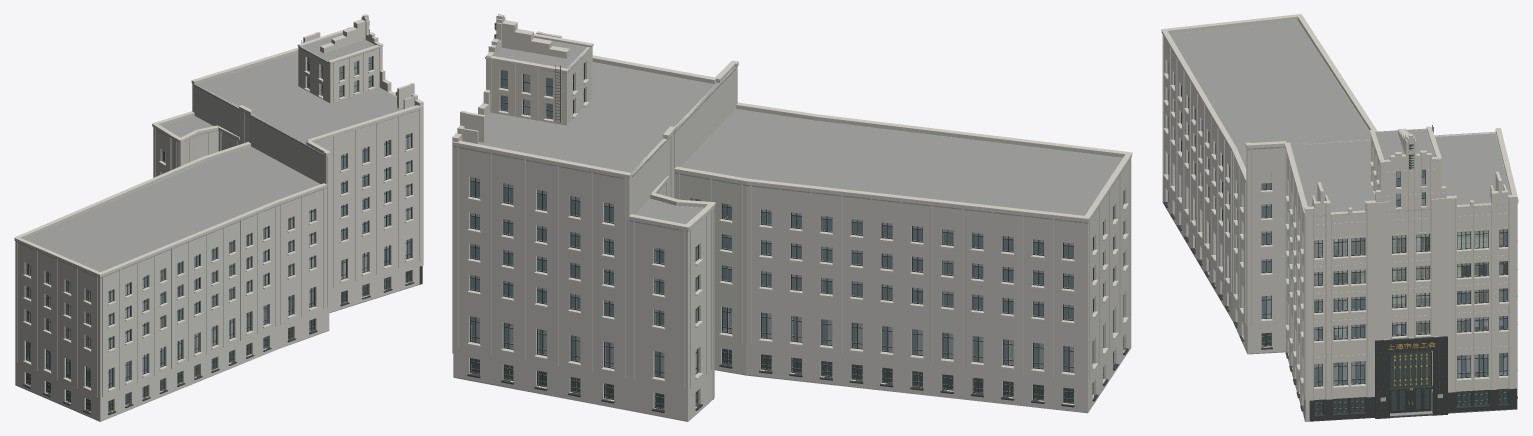
The model's file is bund14.glb.
3 views of the same model, side by side, from view 1: azimuth 30°, elevation 25°; view 2: azimuth 150°, elevation 25°; view 3: azimuth 270°, elevation 25° (orthographic). The views are drawn at different scales.
Visible parts, largest first — view 1: Bund 14 — Bank of Communications Building / 交通银行大楼; view 2: Bund 14 — Bank of Communications Building / 交通银行大楼; view 3: Bund 14 — Bank of Communications Building / 交通银行大楼.
Boxes of the visible parts, <box> form: Bund 14 — Bank of Communications Building / 交通银行大楼: <box>14,14,423,421</box>; Bund 14 — Bank of Communications Building / 交通银行大楼: <box>452,14,1132,421</box>; Bund 14 — Bank of Communications Building / 交通银行大楼: <box>1161,14,1518,421</box>.
Bounding box in the file's own units: 60.25 × 33.4 × 38.68.
14 materials, 1 textured.
